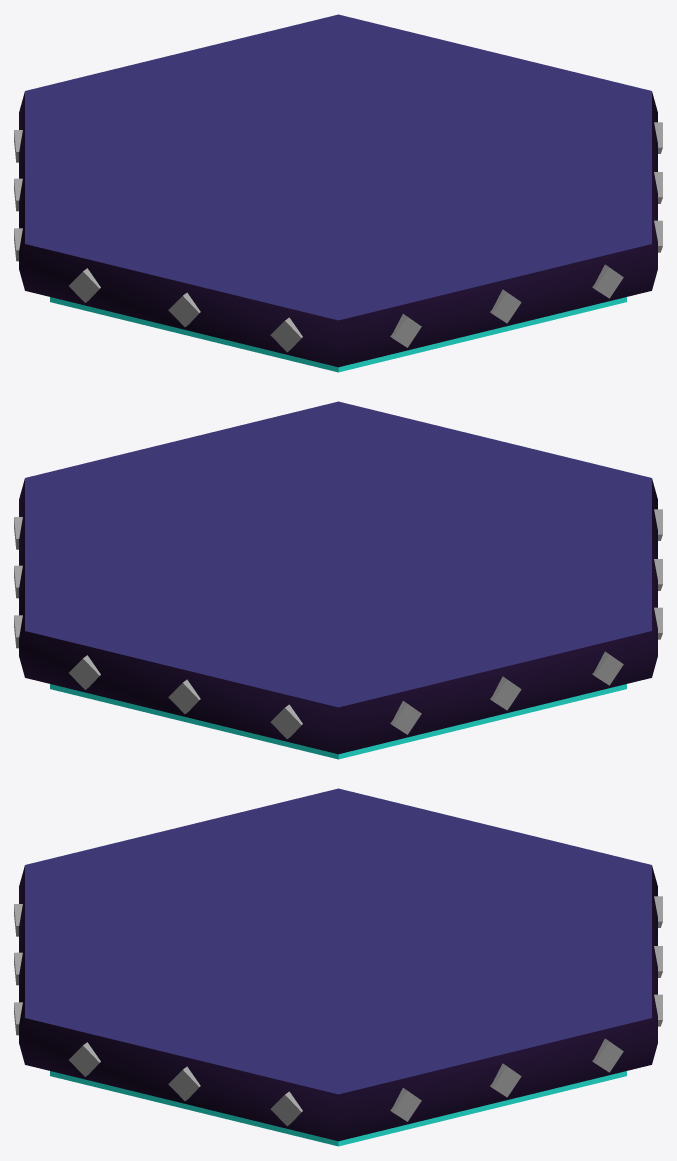
File: plataforma.FBX
The picture shows the model from 3 angles, top to bottom: view 1: azimuth 30°, elevation 25°; view 2: azimuth 150°, elevation 25°; view 3: azimuth 270°, elevation 25°; orthographic projection.
Parts seen in each view (by area): view 1: Cylinder009; view 2: Cylinder009; view 3: Cylinder009.
Boxes of the visible parts, bbox=[...] form: Cylinder009: bbox=[14, 14, 662, 372]; Cylinder009: bbox=[14, 401, 662, 759]; Cylinder009: bbox=[14, 788, 662, 1146].
Size of the model in its own units: 71.36 by 6.84 by 62.75.
